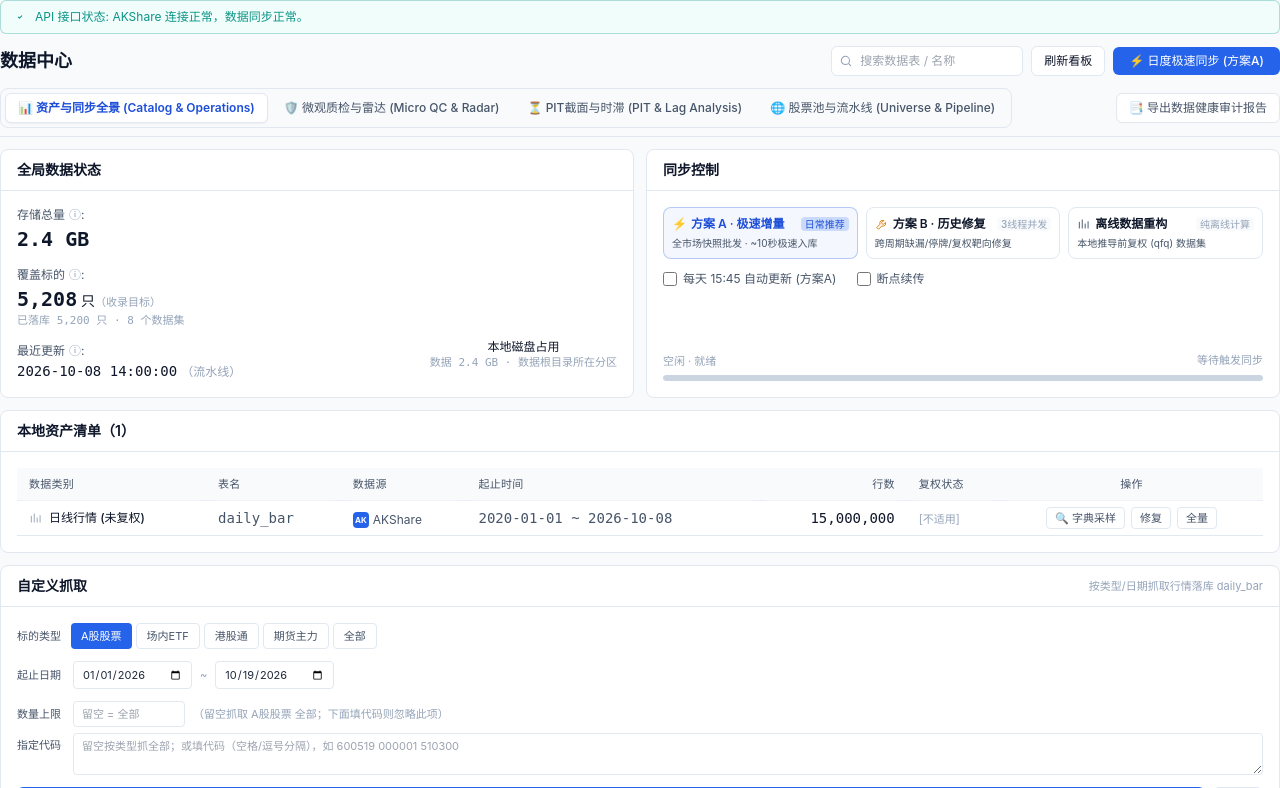
Test: 数据中心进化工作台 (DataCenter Evolution) › 支持在资产清单点击「🔍 字典采样」打开 Schema 字典与截面预览弹窗
Click the button "🔍 字典采样" at x=1086, y=518, box [1046, 507, 1125, 529]
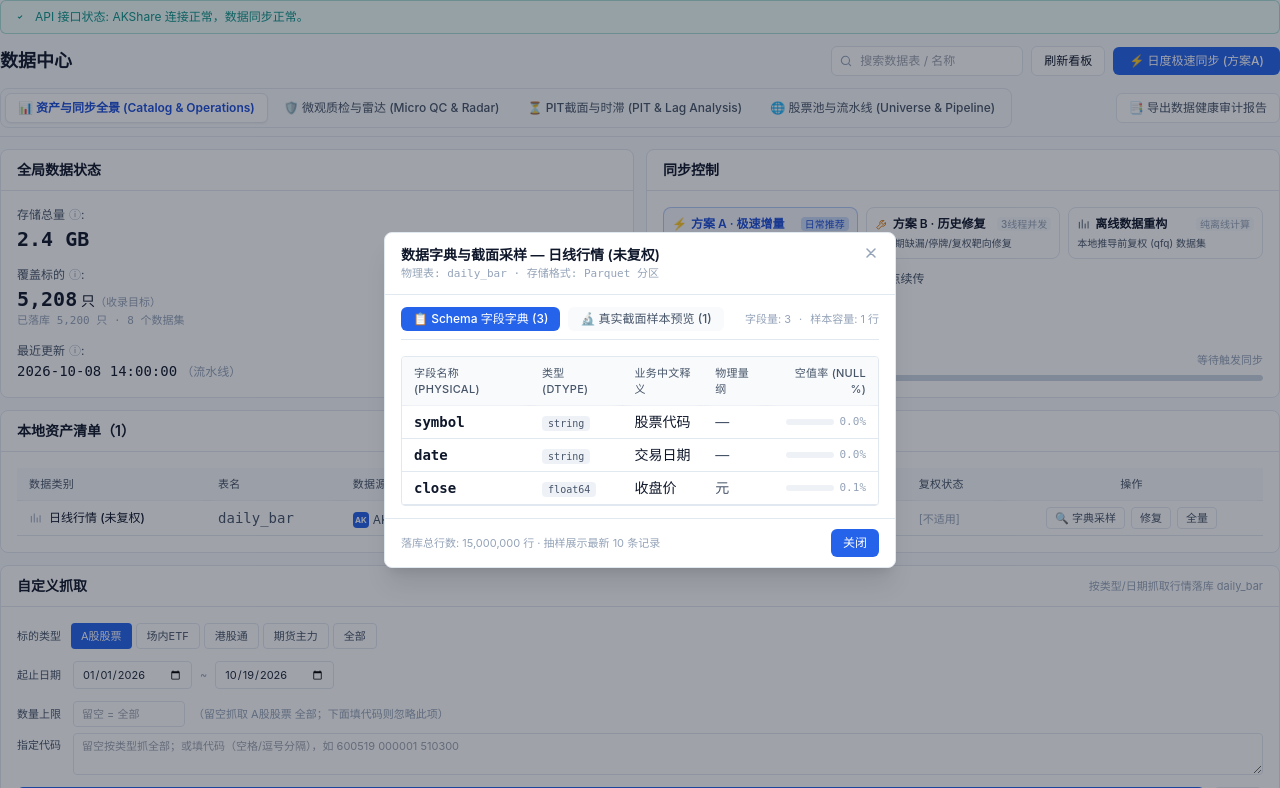
Expected: the heading "数据字典与截面采样 — 日线行情 (未复权)" is shown, [401, 245, 660, 264]
Expected: the text "收盘价" is shown, [622, 472, 703, 505]
Expected: the text "float64" is shown, [542, 482, 596, 497]
